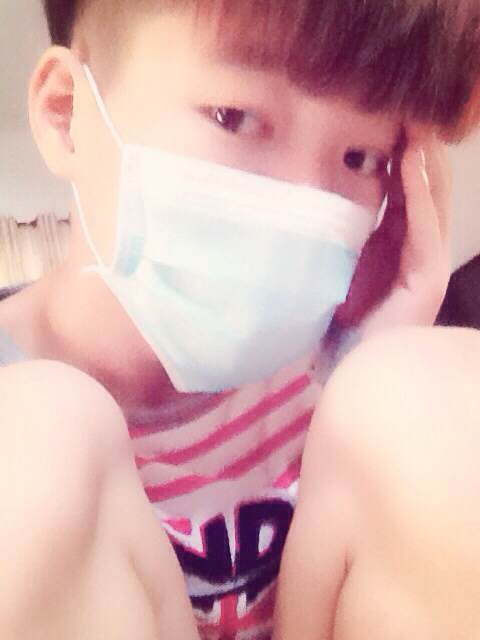face_mask: (99, 0, 405, 390)
